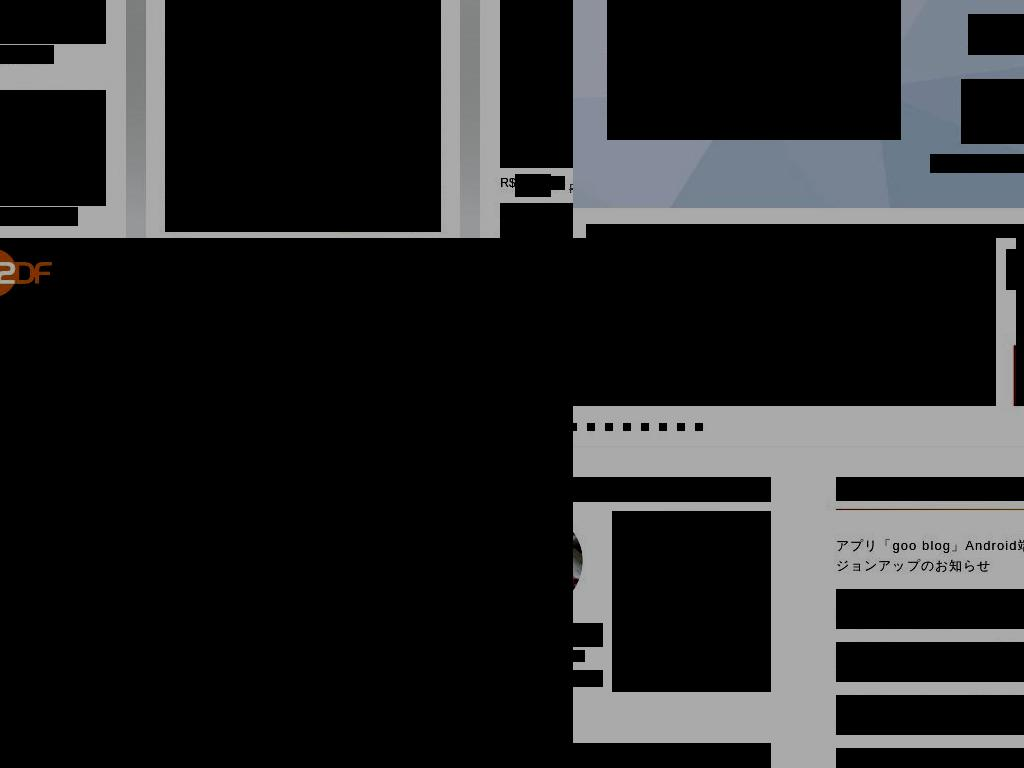button: (0, 313, 573, 768), (573, 238, 996, 406), (165, 0, 441, 232), (612, 511, 771, 692), (0, 90, 106, 206), (573, 511, 613, 692), (108, 248, 245, 298), (462, 248, 573, 298), (305, 248, 402, 298), (0, 0, 106, 44), (0, 248, 53, 298), (1006, 249, 1024, 290), (587, 423, 595, 431), (605, 423, 613, 431), (623, 423, 631, 431), (641, 423, 649, 431), (659, 423, 667, 431), (677, 423, 685, 431), (695, 423, 703, 431), (573, 423, 577, 431)
heading: (32, 664, 342, 732), (573, 477, 771, 502), (573, 743, 771, 768), (836, 477, 1024, 501), (622, 623, 761, 647), (0, 248, 52, 298), (83, 632, 191, 656), (968, 14, 1024, 55), (32, 632, 73, 656), (573, 623, 603, 647), (73, 632, 83, 656)
image: (573, 238, 996, 406), (165, 0, 441, 232), (607, 0, 901, 140), (0, 90, 106, 206), (641, 511, 742, 611), (0, 0, 106, 44)
link: (836, 536, 1024, 576), (836, 589, 1024, 629), (836, 642, 1024, 682), (836, 695, 1024, 735), (836, 748, 1024, 768), (622, 650, 693, 662)
text: (32, 742, 353, 768), (586, 224, 1024, 238), (500, 203, 573, 238), (622, 670, 761, 687), (134, 263, 225, 282), (488, 263, 573, 282), (0, 207, 78, 226), (0, 45, 54, 64), (331, 263, 382, 282), (515, 174, 551, 197), (573, 670, 603, 687), (500, 176, 516, 190), (550, 176, 565, 190)
